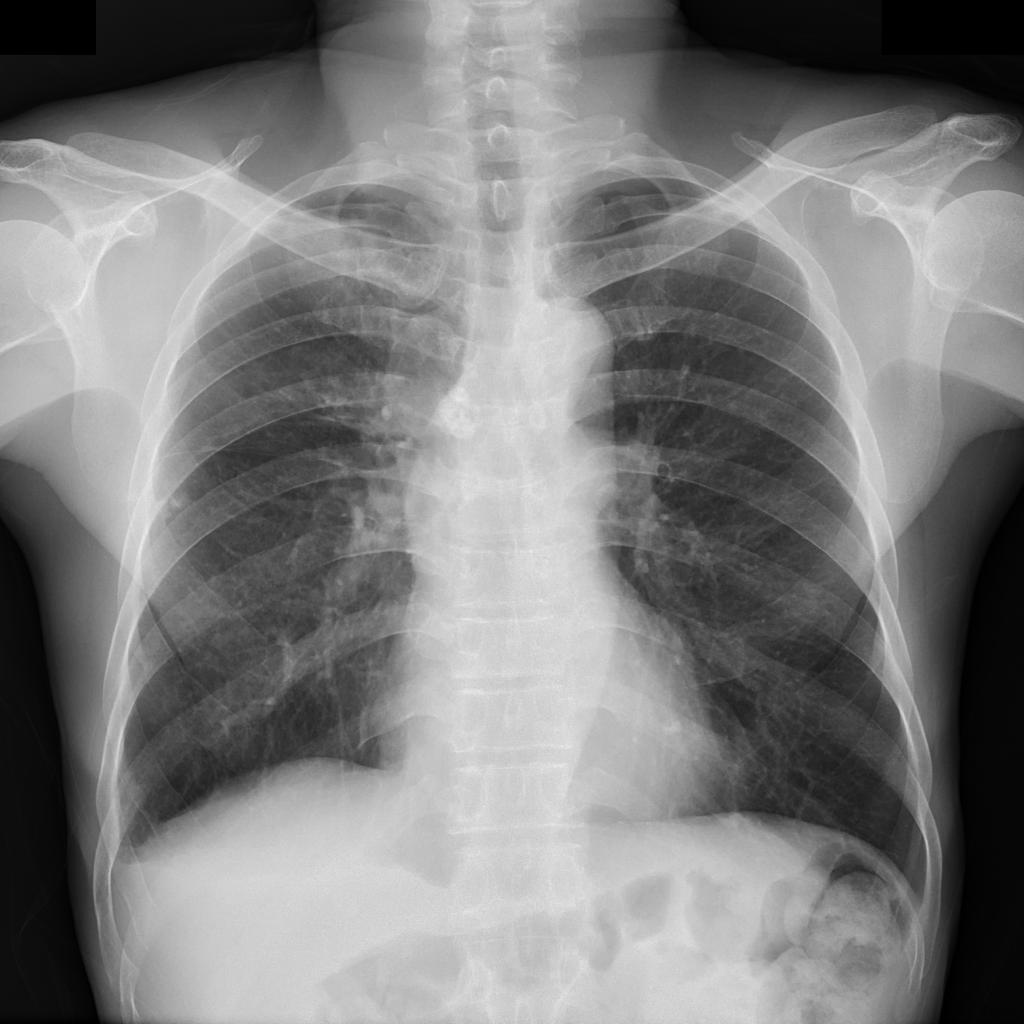Nodule: (385, 318, 461, 443)
